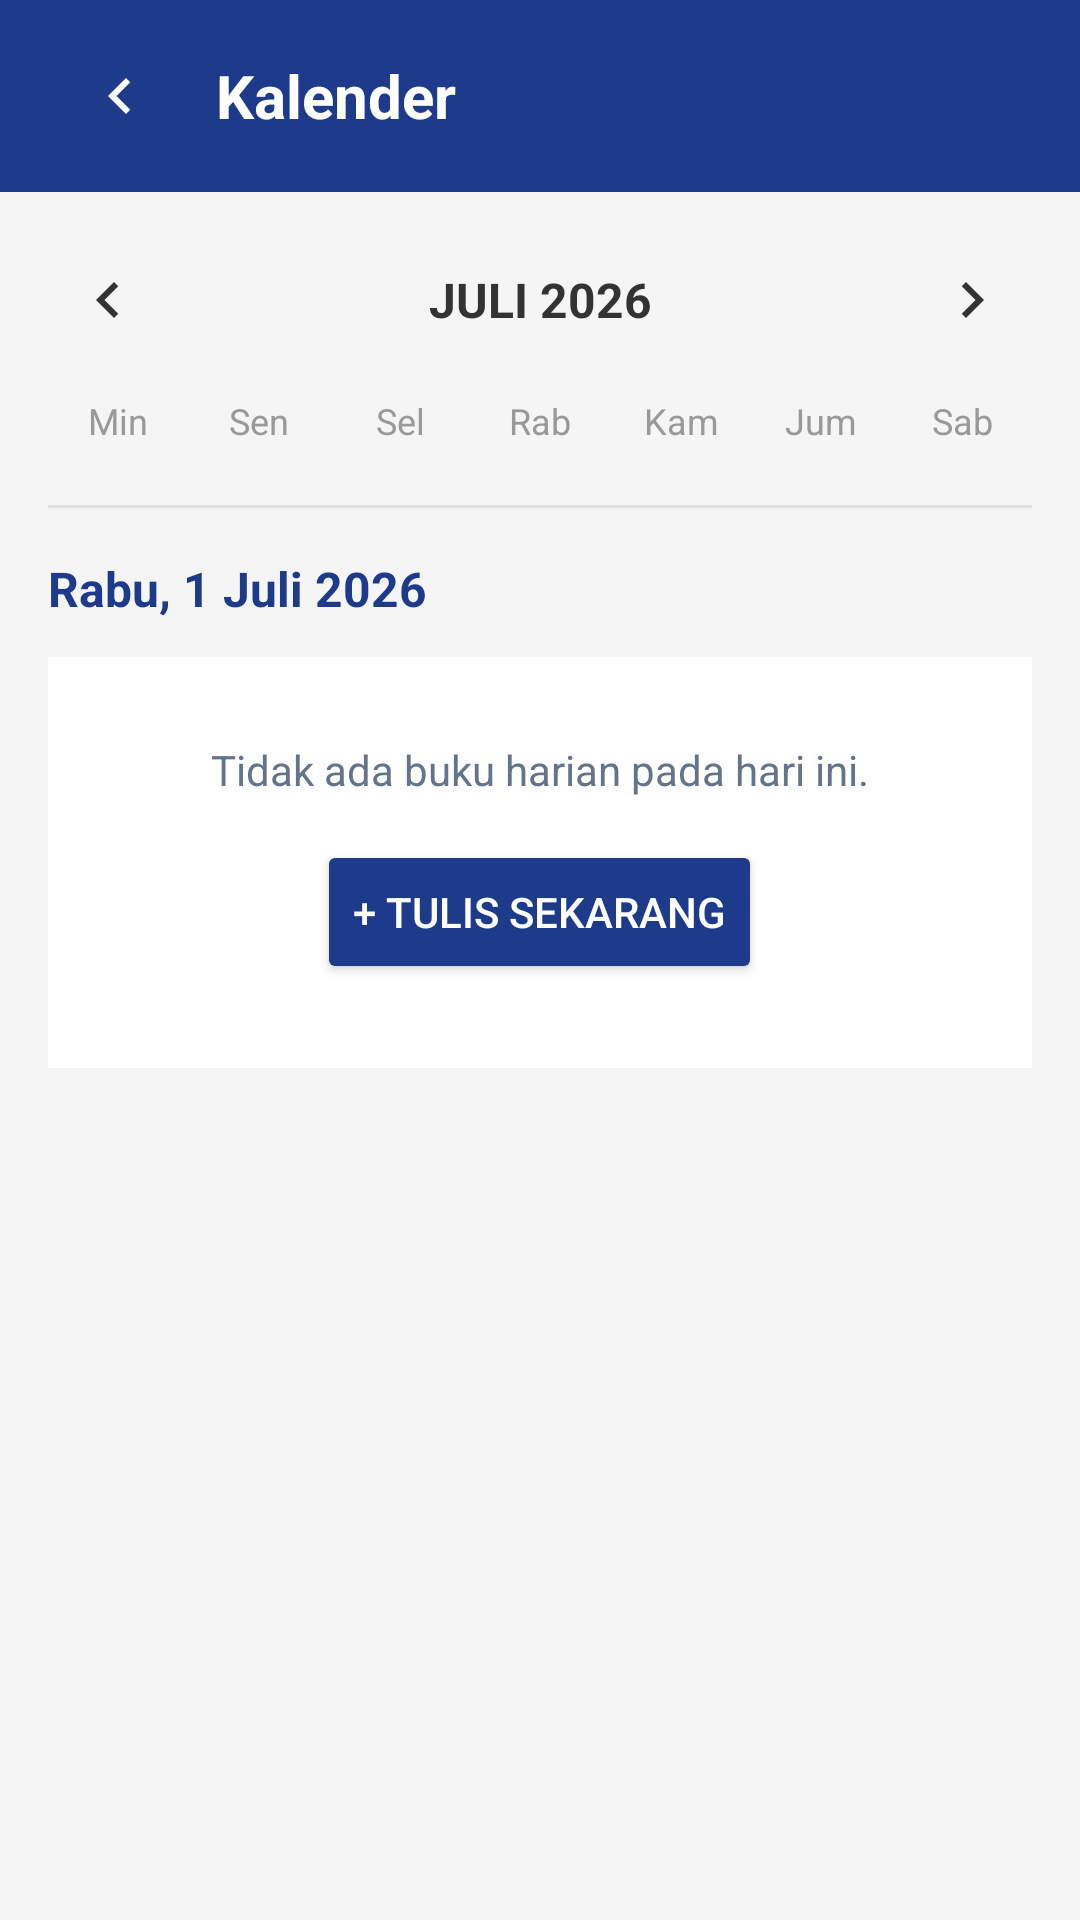

Point at icon controls on the screen. Image size 1080 × 1920, points as (x=x, y=y).
Bulan sebelumnya: (x=107, y=300)
Kembali: (x=119, y=96)
